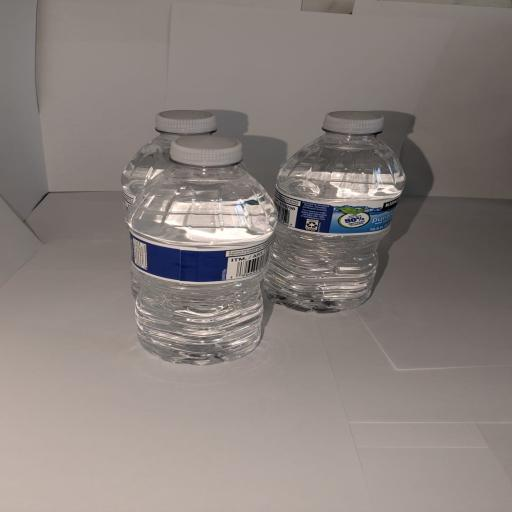waterbottle: (129, 136, 276, 364), (266, 111, 404, 312), (122, 110, 216, 216)
